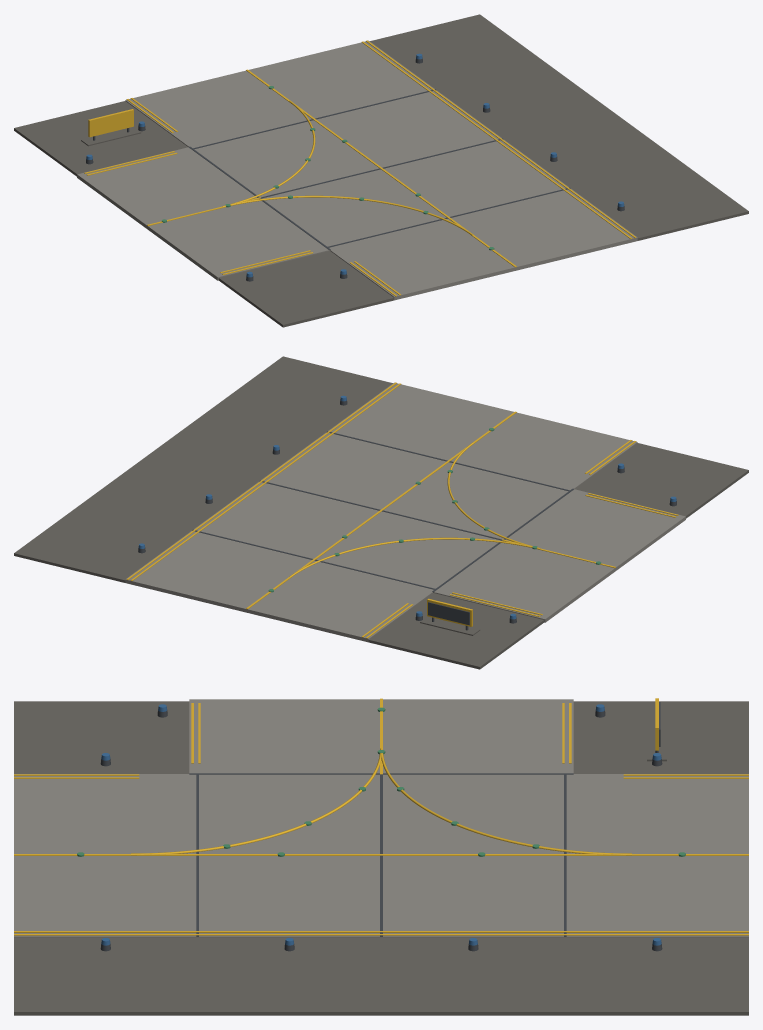
The model's file is tee.glb.
The picture shows the model from 3 angles, top to bottom: view 1: azimuth 30°, elevation 25°; view 2: azimuth 150°, elevation 25°; view 3: azimuth 270°, elevation 25°; orthographic projection. The views are drawn at different scales.
Visible parts, largest first — view 1: pavement_through, shoulder_east, pavement_branch, shoulder_west_n, shoulder_west_s, fillet_south, fillet_north, sign_panel, edge_east_outer, edge_east_inner, centreline_through, centreline_curve_north; view 2: pavement_through, shoulder_east, pavement_branch, shoulder_west_n, shoulder_west_s, fillet_north, fillet_south, edge_east_outer, edge_east_inner, centreline_through, centreline_curve_south, sign_face; view 3: pavement_through, shoulder_east, pavement_branch, shoulder_west_n, shoulder_west_s, fillet_south, fillet_north, edge_east_inner, edge_east_outer, centreline_through, centreline_curve_south, centreline_curve_north (+2 smaller).
Boxes of the visible parts, x1=… form: pavement_through: x1=125, y1=40, x2=637, y2=300; shoulder_east: x1=370, y1=14, x2=748, y2=240; pavement_branch: x1=77, y1=147, x2=329, y2=280; shoulder_west_n: x1=218, y1=251, x2=394, y2=327; shoulder_west_s: x1=14, y1=101, x2=187, y2=176; fillet_south: x1=125, y1=92, x2=300, y2=146; fillet_north: x1=330, y1=223, x2=458, y2=296; sign_panel: x1=88, y1=109, x2=133, y2=137; edge_east_outer: x1=366, y1=40, x2=636, y2=237; edge_east_inner: x1=362, y1=41, x2=632, y2=238; centreline_through: x1=246, y1=69, x2=516, y2=267; centreline_curve_north: x1=222, y1=195, x2=473, y2=235; pavement_through: x1=125, y1=382, x2=637, y2=642; shoulder_east: x1=14, y1=356, x2=392, y2=582; pavement_branch: x1=433, y1=489, x2=685, y2=622; shoulder_west_n: x1=575, y1=443, x2=748, y2=518; shoulder_west_s: x1=368, y1=593, x2=544, y2=669; fillet_north: x1=462, y1=434, x2=637, y2=488; fillet_south: x1=304, y1=565, x2=432, y2=638; edge_east_outer: x1=126, y1=382, x2=396, y2=579; edge_east_inner: x1=130, y1=383, x2=400, y2=580; centreline_through: x1=246, y1=411, x2=516, y2=609; centreline_curve_south: x1=289, y1=537, x2=540, y2=577; sign_face: x1=428, y1=602, x2=469, y2=625; pavement_through: x1=14, y1=774, x2=748, y2=937; shoulder_east: x1=14, y1=937, x2=748, y2=1015; pavement_branch: x1=189, y1=699, x2=573, y2=773; shoulder_west_n: x1=14, y1=701, x2=189, y2=773; shoulder_west_s: x1=573, y1=701, x2=748, y2=773; fillet_south: x1=573, y1=774, x2=748, y2=848; fillet_north: x1=14, y1=774, x2=189, y2=848; edge_east_inner: x1=14, y1=931, x2=748, y2=932; edge_east_outer: x1=14, y1=934, x2=748, y2=935; centreline_through: x1=14, y1=854, x2=748, y2=855; centreline_curve_south: x1=380, y1=748, x2=631, y2=855; centreline_curve_north: x1=131, y1=748, x2=381, y2=855.
Size of the model in its own units: 44.1 by 2.25 by 44.
